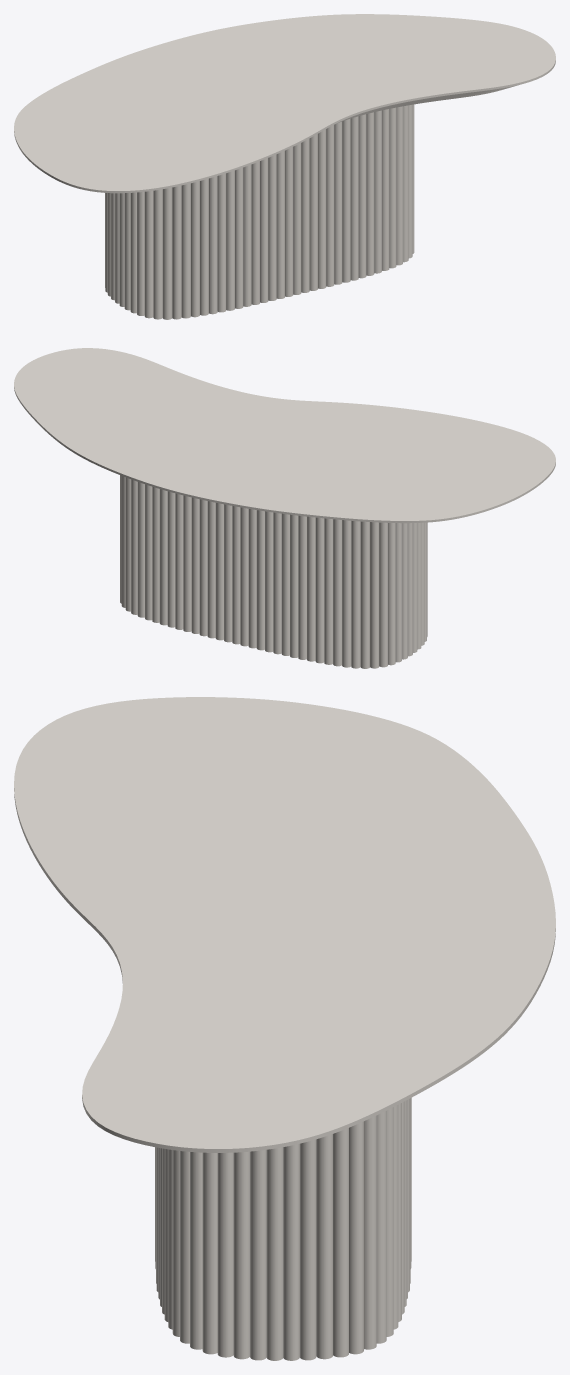
The model's file is pearlwhite_leaf1_facet_newtable.glb.
The picture shows the model from 3 angles, top to bottom: view 1: azimuth 30°, elevation 25°; view 2: azimuth 150°, elevation 25°; view 3: azimuth 270°, elevation 25°; orthographic projection. The views are drawn at different scales.
Visible parts, largest first — view 1: facet_leaf1, newtable; view 2: facet_leaf1, newtable; view 3: facet_leaf1, newtable.
Part boxes in pixels (left/top/right/bottom): facet_leaf1: left=14, top=14, right=555, bottom=193; newtable: left=105, top=104, right=414, bottom=319; facet_leaf1: left=14, top=348, right=555, bottom=523; newtable: left=120, top=475, right=427, bottom=668; facet_leaf1: left=14, top=697, right=555, bottom=1152; newtable: left=155, top=1098, right=411, bottom=1360.
Bounding box in the file's own units: 7.5 × 2.5 × 3.8.
Materials: 2 (2 with a texture image).
